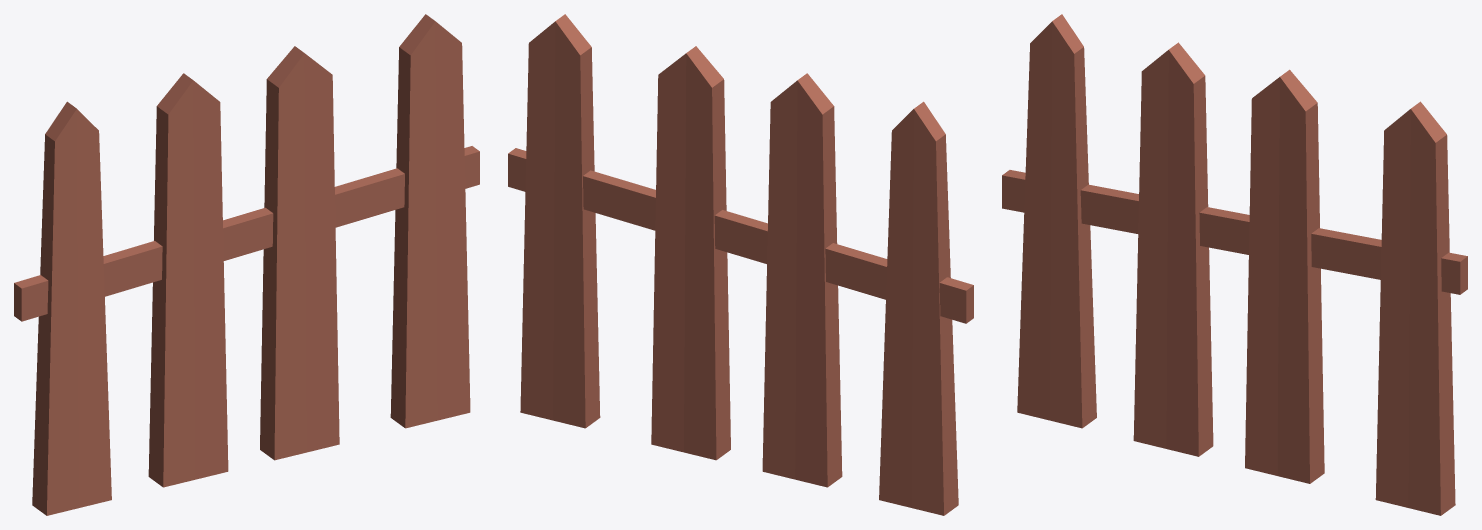
File: Fence_002.fbx
3 renders of one model, left to right at view 1: azimuth 30°, elevation 25°; view 2: azimuth 150°, elevation 25°; view 3: azimuth 330°, elevation 25°, orthographic.
Parts seen in each view (by area): view 1: Fence_002; view 2: Fence_002; view 3: Fence_002.
Part boxes in pixels (bbox=[...]): Fence_002: bbox=[14, 14, 479, 515]; Fence_002: bbox=[508, 14, 973, 515]; Fence_002: bbox=[1002, 14, 1467, 515].
Size of the model in its own units: 362 by 300 by 20.02.
